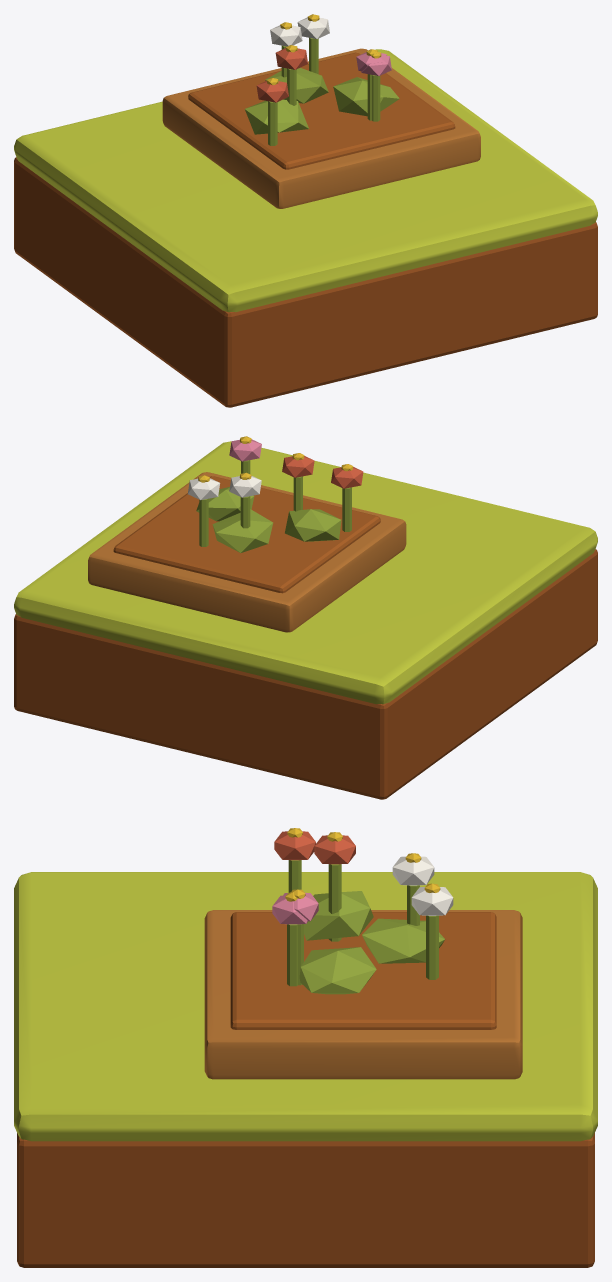
File: tile_garden.glb
3 renders of one model, top to bottom at view 1: azimuth 30°, elevation 25°; view 2: azimuth 150°, elevation 25°; view 3: azimuth 270°, elevation 25°, orthographic. The views are drawn at different scales.
Visible parts, largest first — view 1: gar_cap, gar_body, gar_bed, gar_fill, garf2_leafmound, garf0_leafmound, garf1_leafmound, garf0_head1, garf0_head0, garf1_head0, garf1_head1; view 2: gar_cap, gar_body, gar_bed, gar_fill, garf1_leafmound, garf0_leafmound, garf2_leafmound, garf1_head1, garf0_head1, garf0_head0, garf2_head1, garf1_head0; view 3: gar_cap, gar_body, gar_bed, gar_fill, garf2_leafmound, garf1_leafmound, garf0_leafmound, garf1_head0, garf1_head1, garf0_head0, garf0_head1, garf1_stem1 (+3 smaller).
Boxes of the visible parts, x1,y1,x2,y2 form: gar_cap: (14,49,597,312); gar_body: (14,157,597,407); gar_bed: (162,48,480,208); gar_fill: (188,52,455,169); garf2_leafmound: (333,77,399,116); garf0_leafmound: (244,99,308,134); garf1_leafmound: (265,67,328,103); garf0_head1: (256,81,288,102); garf0_head0: (275,48,307,69); garf1_head0: (270,25,302,46); garf1_head1: (297,17,329,38); gar_cap: (14,441,597,704); gar_body: (14,549,597,799); gar_bed: (88,472,406,632); gar_fill: (113,476,380,593); garf1_leafmound: (212,509,273,552); garf0_leafmound: (285,509,341,541); garf2_leafmound: (196,487,254,521); garf1_head1: (187,478,220,500); garf0_head1: (331,467,363,488); garf0_head0: (282,456,314,477); garf2_head1: (229,440,261,461); garf1_head0: (229,476,261,497); gar_cap: (14,872,597,1141); gar_body: (17,1133,594,1267); gar_bed: (204,910,522,1079); gar_fill: (230,912,496,1029); garf2_leafmound: (299,947,376,994); garf1_leafmound: (362,918,444,963); garf0_leafmound: (304,891,373,940); garf1_head0: (392,856,434,885); garf1_head1: (411,887,453,915); garf0_head0: (314,835,355,864); garf0_head1: (274,831,315,860); garf1_stem1: (426,915,438,979).
Bounding box in the file's own units: 2.02 × 1.2 × 2.02.
